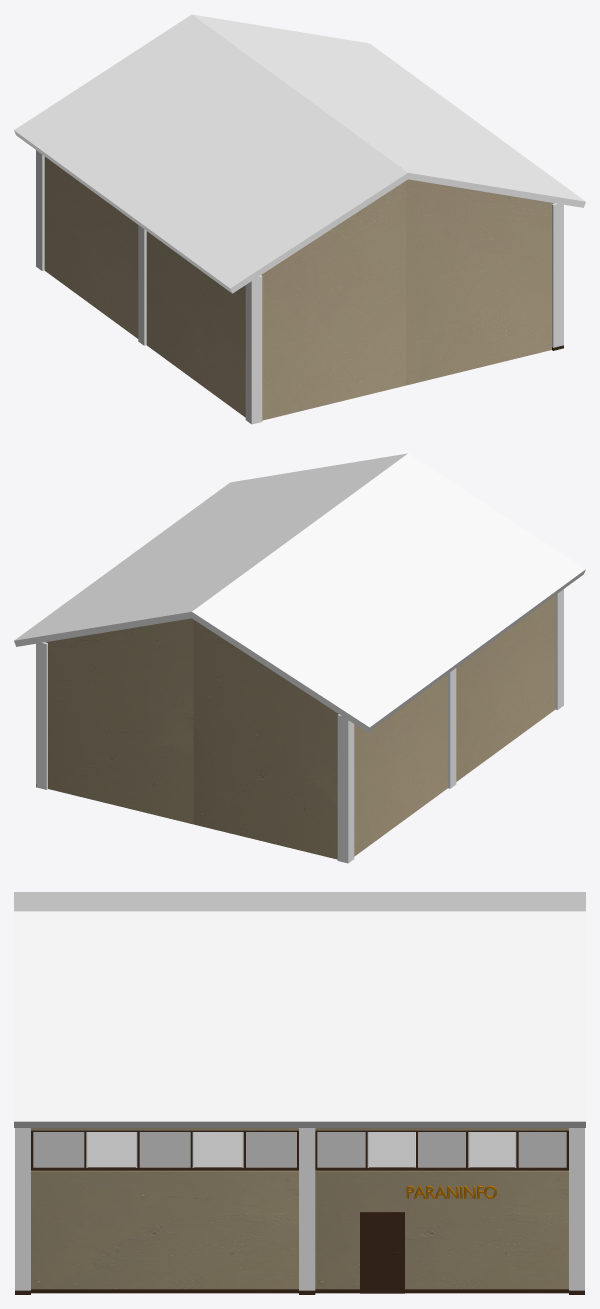
Rendered from paraninfo.fbx.
3 views of the same model, one above another, from view 1: azimuth 30°, elevation 25°; view 2: azimuth 150°, elevation 25°; view 3: azimuth 270°, elevation 25° (orthographic). The views are drawn at different scales.
Parts seen in each view (by area): view 1: Pared.014, Pared.008, Pared.015, Pared.003, Pared.012, Pared.005, Pared.013, Pared.006, Pilar.005, Pilar.003, Pilar.004, Pilar.006; view 2: Pared.014, Pared.015, Pared.007, Pared.004, Pared.013, Pared.005, Pared.012, Pared.006, Pilar.004, Pilar.002, Pilar.006, Pilar.005; view 3: Pared.012, Pared.013, Pared.001, Pared.002, Pared.014, Pared.015, Pared.010, Pilar.001, Pilar.002, Pilar.003, Pared.023, Pared.025 (+13 smaller).
Part boxes in pixels (x1,y1,x2,y2): Pared.014: (116, 89, 408, 293); Pared.008: (406, 179, 554, 385); Pared.015: (14, 14, 293, 209); Pared.003: (261, 181, 406, 420); Pared.012: (301, 94, 585, 207); Pared.005: (146, 231, 245, 417); Pared.013: (192, 14, 477, 122); Pared.006: (44, 156, 138, 338); Pilar.005: (245, 275, 262, 424); Pilar.003: (552, 203, 563, 347); Pilar.004: (36, 150, 44, 270); Pilar.006: (138, 225, 146, 345); Pared.014: (294, 453, 585, 657); Pared.015: (190, 537, 471, 732); Pared.007: (45, 618, 193, 824); Pared.004: (193, 620, 338, 859); Pared.013: (14, 532, 299, 646); Pared.005: (456, 595, 555, 781); Pared.012: (123, 453, 407, 560); Pared.006: (354, 674, 447, 856); Pilar.004: (337, 714, 354, 863); Pilar.002: (36, 642, 47, 789); Pilar.006: (448, 668, 456, 788); Pilar.005: (555, 589, 563, 709); Pared.012: (14, 911, 315, 1127); Pared.013: (298, 911, 585, 1127); Pared.001: (31, 1128, 298, 1289); Pared.002: (315, 1128, 568, 1289); Pared.014: (14, 892, 315, 911); Pared.015: (316, 892, 585, 911); Pared.010: (360, 1212, 404, 1293); Pilar.001: (299, 1128, 315, 1290); Pilar.002: (569, 1128, 584, 1290); Pilar.003: (15, 1128, 30, 1290); Pared.023: (139, 1132, 190, 1167); Pared.025: (33, 1132, 84, 1167).
Size of the model in its own units: 1212 by 696 by 1276.
